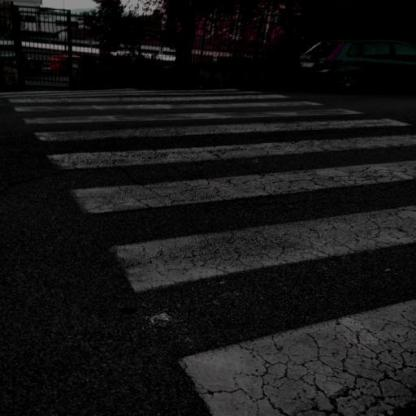crosswalk: (17, 104, 416, 146)
